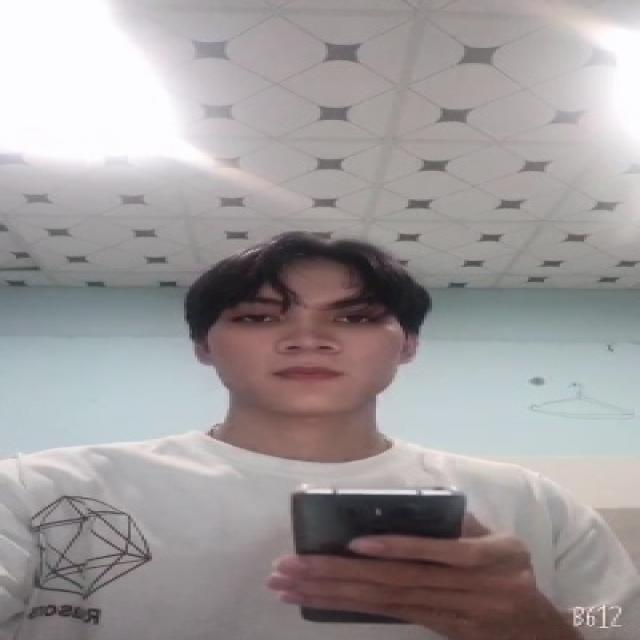Phone: (289, 484, 466, 626)
